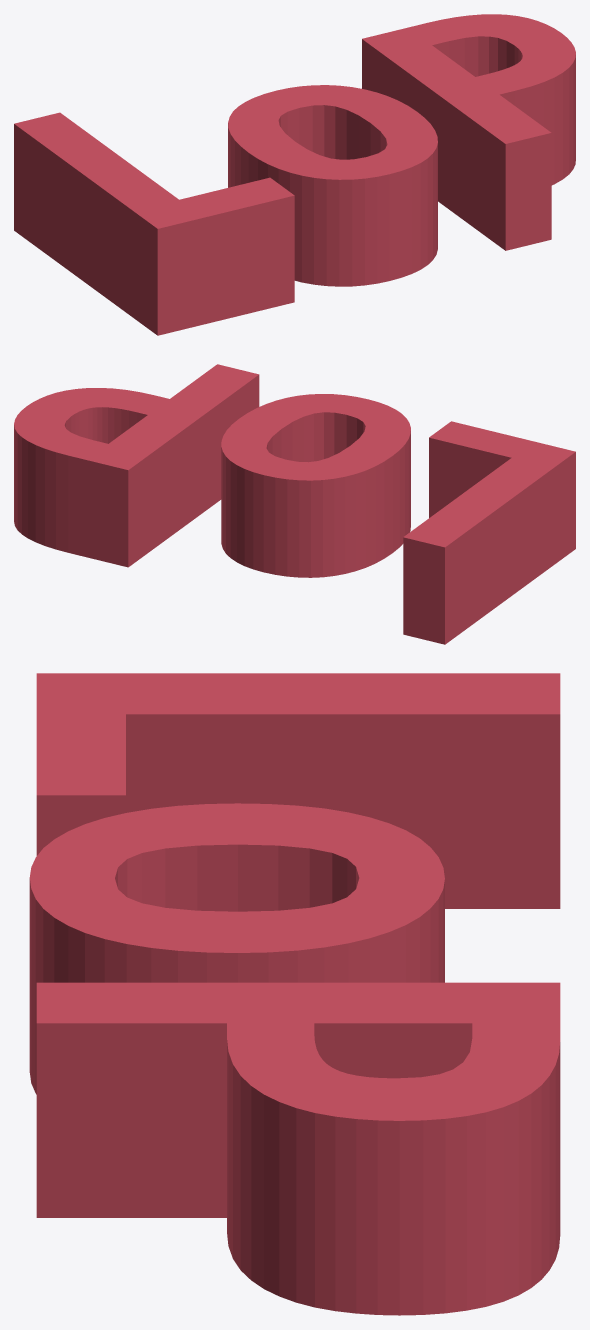
The model's file is lop.glb.
The picture shows the model from 3 angles, top to bottom: view 1: azimuth 30°, elevation 25°; view 2: azimuth 150°, elevation 25°; view 3: azimuth 270°, elevation 25°; orthographic projection. The views are drawn at different scales.
Parts seen in each view (by area): view 1: Mesh_Mesh_head_geo.001_lambert2SG.001; view 2: Mesh_Mesh_head_geo.001_lambert2SG.001; view 3: Mesh_Mesh_head_geo.001_lambert2SG.001.
Part boxes in pixels (box(x1,y1,x2,y2)): Mesh_Mesh_head_geo.001_lambert2SG.001: box(14, 14, 575, 335); Mesh_Mesh_head_geo.001_lambert2SG.001: box(14, 364, 575, 644); Mesh_Mesh_head_geo.001_lambert2SG.001: box(29, 673, 560, 1315).
Bounding box in the file's own units: 42.97 × 8.71 × 21.53.
